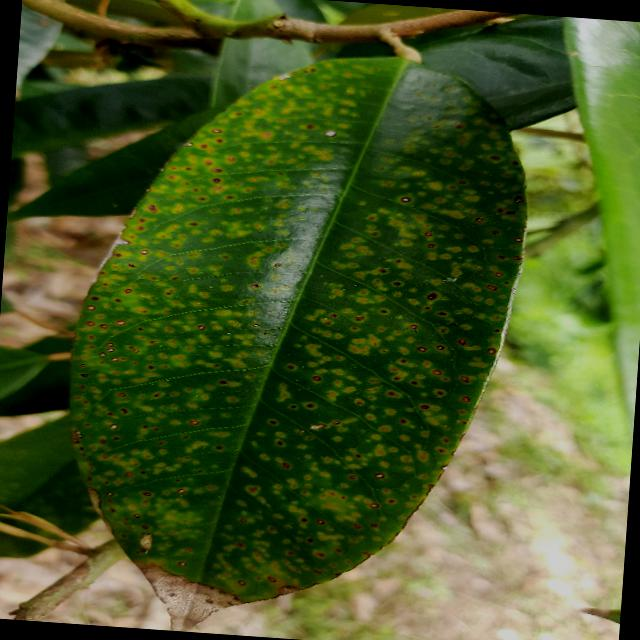Leaf Spot: (46, 26, 540, 639)
